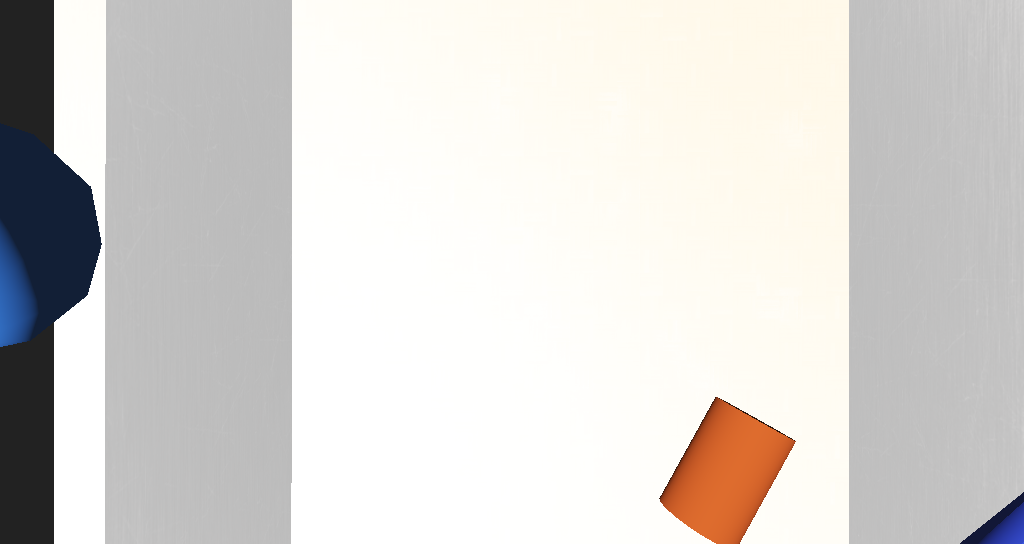cone: (556, 313, 630, 375)
cylinder: (613, 291, 748, 377)
sphere: (226, 229, 313, 286)
